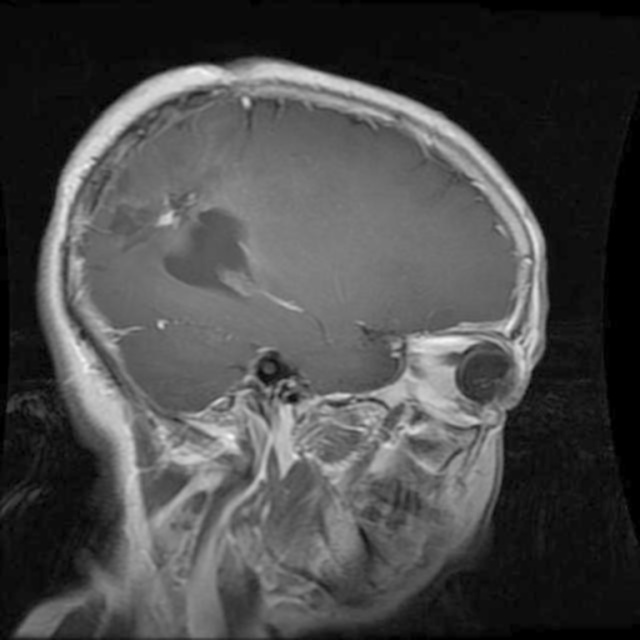pituitary tumor: (150, 182, 192, 235)
